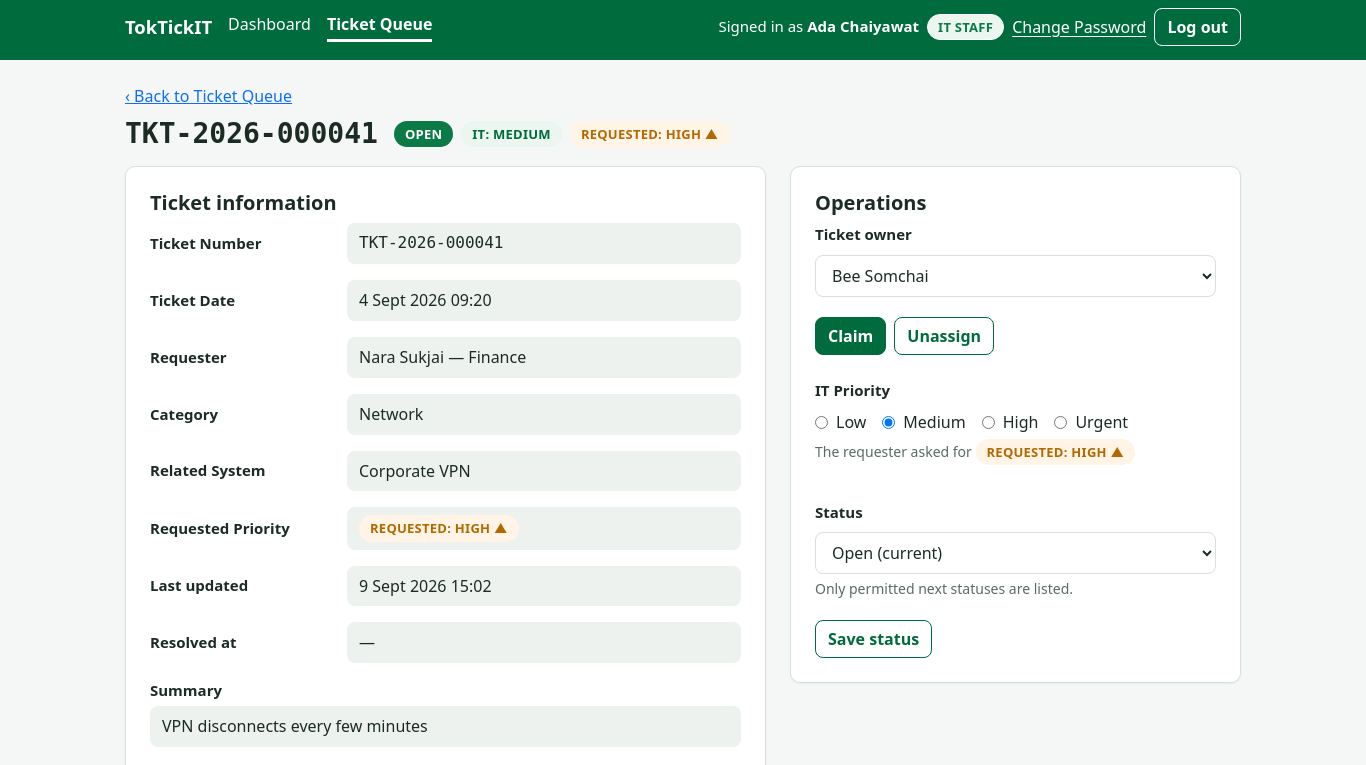
Test: UI-25 RESOLVED, CLOSED, and CANCELLED require confirmation (AC-44, BR-37) › OPEN → RESOLVED: the dialog names the Ticket and the status; cancelling sends nothing
The image size is (1366, 765).
Select "Resolved" in the dropdown labelled "Status" at (1016, 553), box [815,532,1216,574]
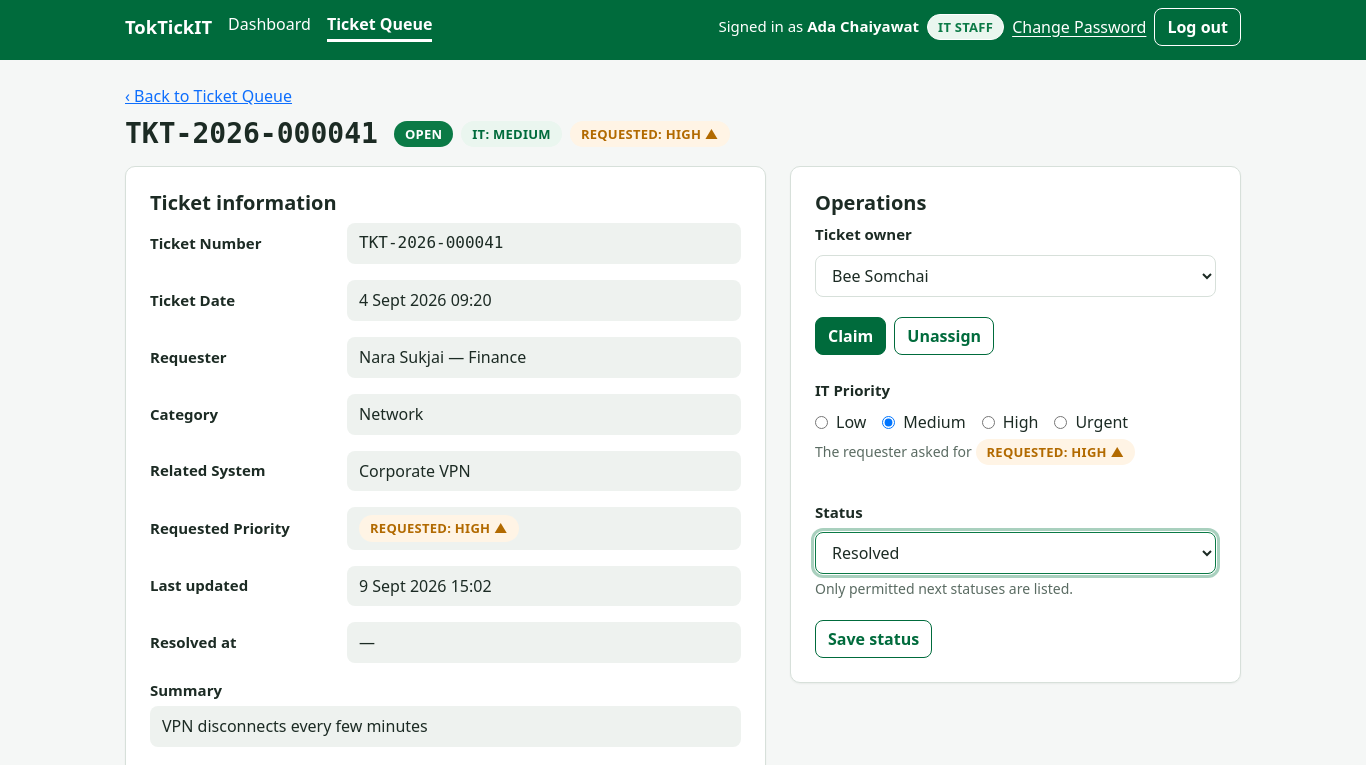
Click the button "Save status".
click(874, 639)  # box [815,620,932,658]
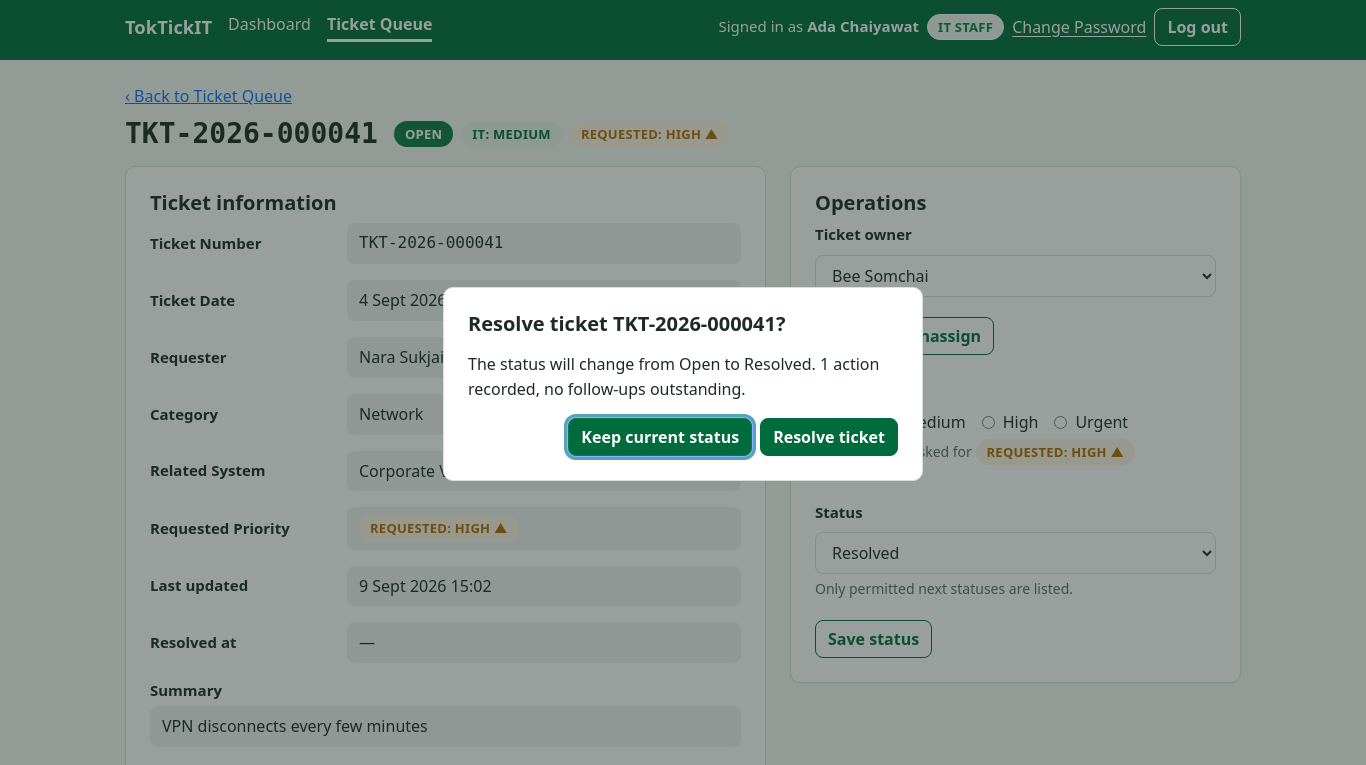
expect the dialog "Resolve ticket TKT-2026-000041?" shows "Resolved": met, box [744,353,812,375]
Click the button "Keep current status".
click(660, 437)  # box [568,418,752,456]
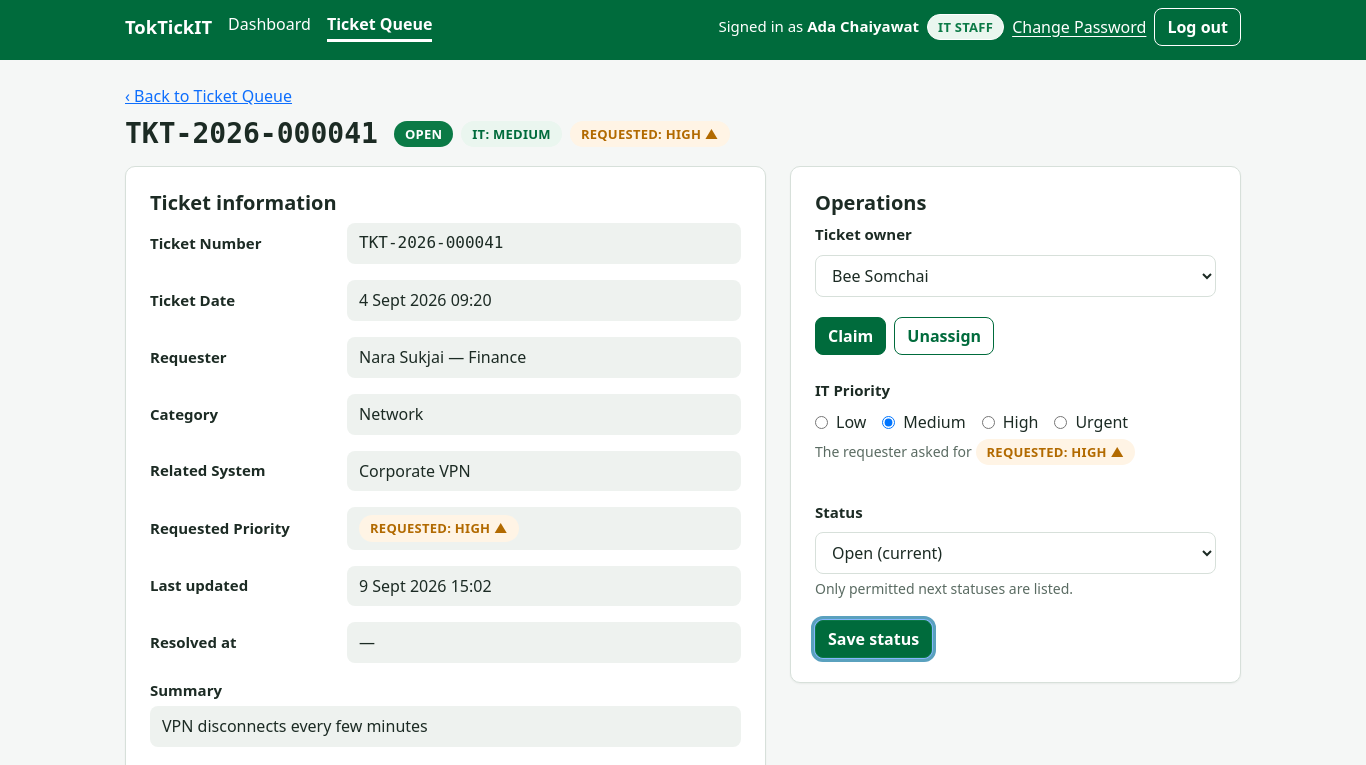
expect the button "Save status" is enabled: met, box [815,620,932,658]
expect the dialog is gone: met
